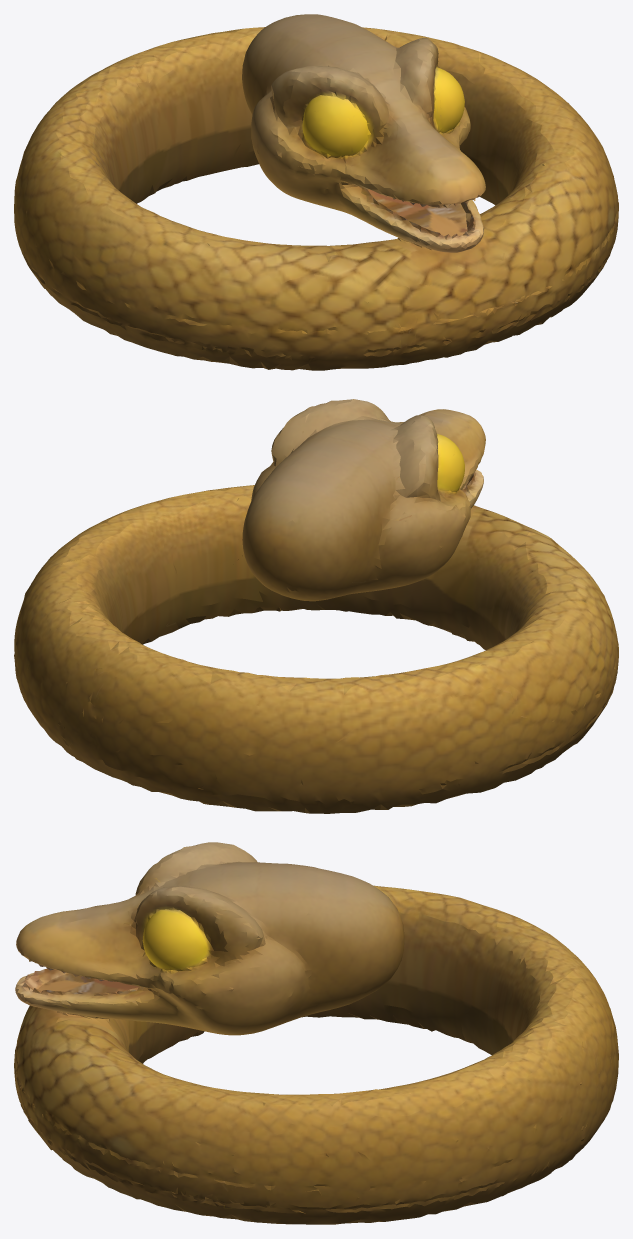
The model's file is SewerSnake.glb.
The picture shows the model from 3 angles, top to bottom: view 1: azimuth 30°, elevation 25°; view 2: azimuth 150°, elevation 25°; view 3: azimuth 270°, elevation 25°; orthographic projection.
Visible parts, largest first — view 1: SewerSnake; view 2: SewerSnake; view 3: SewerSnake.
Boxes of the visible parts, box(x1,y1,x2,y2) form: SewerSnake: box(14, 14, 618, 370); SewerSnake: box(14, 399, 618, 813); SewerSnake: box(14, 842, 618, 1224).
Bounding box in the file's own units: 1.9 × 0.816 × 1.89.
Materials: 1 (1 with a texture image).
